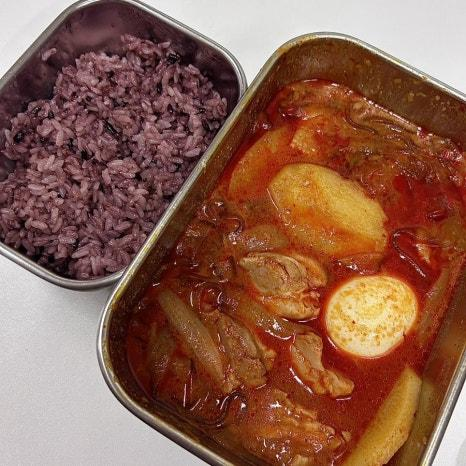Lunch Box: (97, 33, 465, 465), (0, 0, 246, 289)
